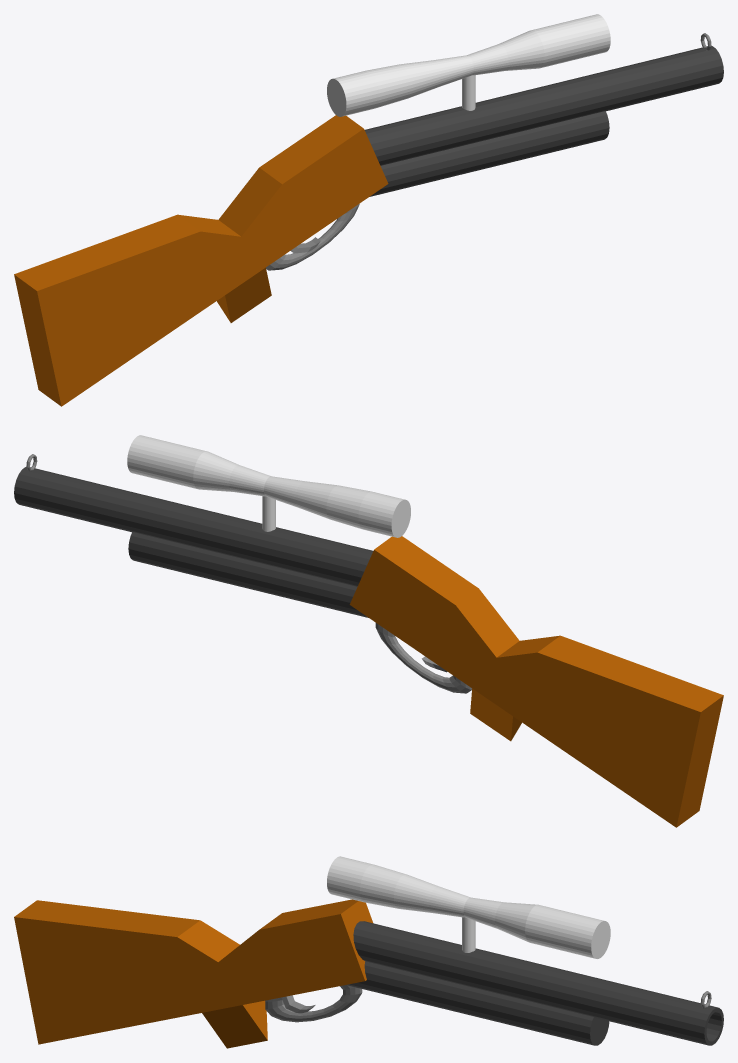
The model's file is sniper gun 2.fbx.
3 views of the same model, one above another, from view 1: azimuth 30°, elevation 25°; view 2: azimuth 150°, elevation 25°; view 3: azimuth 330°, elevation 25° (orthographic).
Parts seen in each view (by area): view 1: 1_Stock.000, 3_Barrel.000, Cylinder, 4_SubBarrel.001, 5_Trigger_Sheild.000; view 2: 1_Stock.000, 3_Barrel.000, Cylinder, 4_SubBarrel.001, 5_Trigger_Sheild.000; view 3: 1_Stock.000, 3_Barrel.000, Cylinder, 4_SubBarrel.001, 5_Trigger_Sheild.000, Cylinder.001.
Boxes of the visible parts, x1,y1,x2,y2 form: 1_Stock.000: [14, 115, 388, 406]; 3_Barrel.000: [364, 46, 723, 165]; Cylinder: [327, 14, 610, 116]; 4_SubBarrel.001: [369, 111, 609, 196]; 5_Trigger_Sheild.000: [266, 204, 359, 270]; 1_Stock.000: [349, 536, 723, 827]; 3_Barrel.000: [14, 467, 373, 586]; Cylinder: [127, 435, 410, 537]; 4_SubBarrel.001: [128, 532, 368, 617]; 5_Trigger_Sheild.000: [375, 623, 471, 693]; 1_Stock.000: [14, 899, 372, 1048]; 3_Barrel.000: [353, 921, 723, 1045]; Cylinder: [327, 856, 610, 958]; 4_SubBarrel.001: [347, 961, 609, 1045]; 5_Trigger_Sheild.000: [265, 985, 362, 1022]; Cylinder.001: [462, 917, 475, 952].
Size of the model in its own units: 4055 by 1398 by 237.
